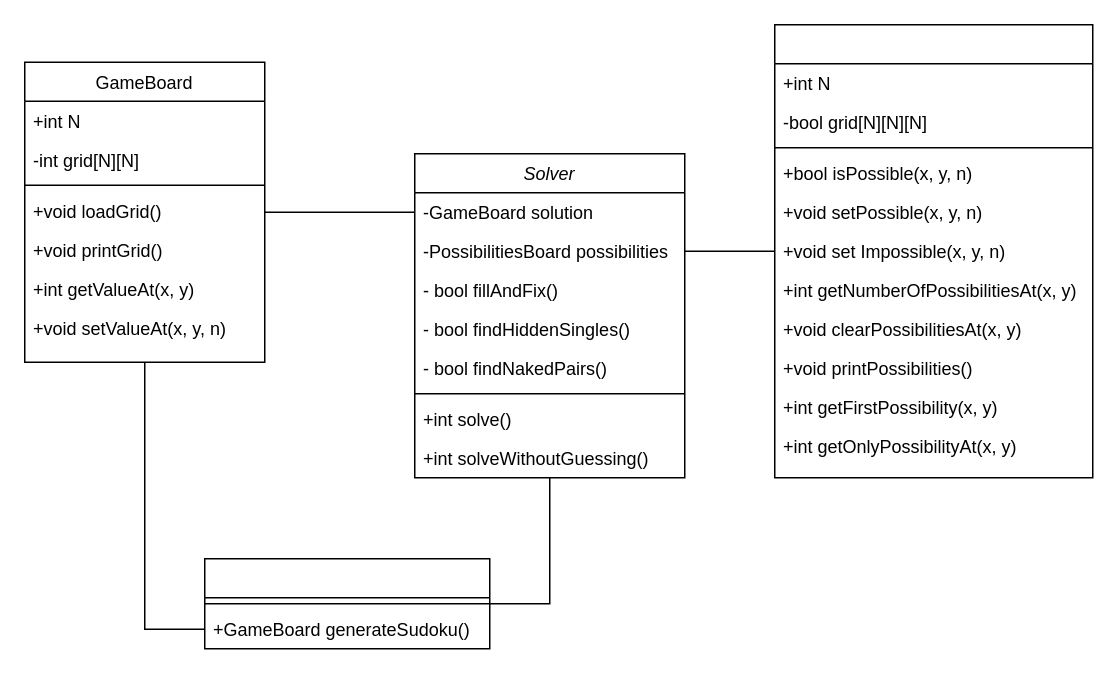
Image size: 1118x674. Some labels were removed from this diagram. Here are the shapes that lost their labels. From the top down, the box of each, then its label:
(773, 23, 1093, 478): PossibilitiesBoard
(203, 557, 490, 649): Generator
